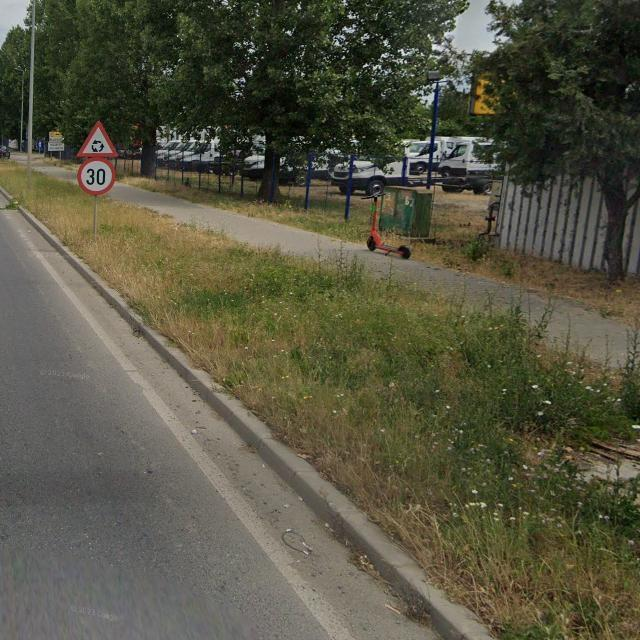forb_speed_over_30: (79, 160, 117, 195)
